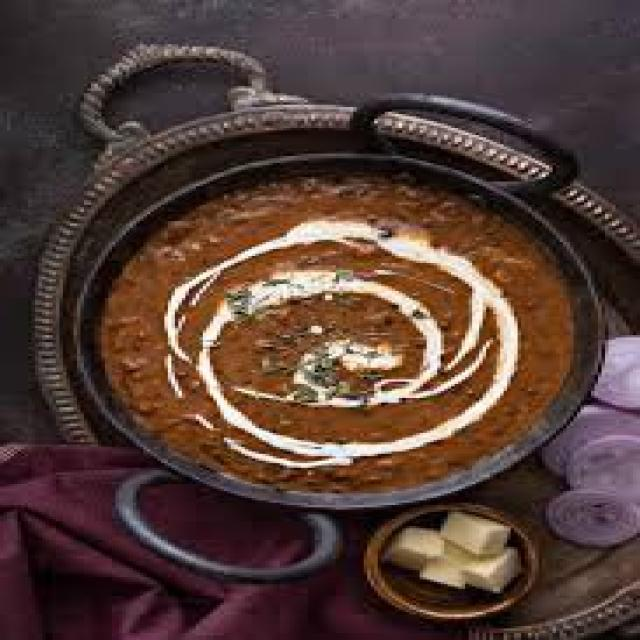dal_makhani: (74, 162, 626, 509)
